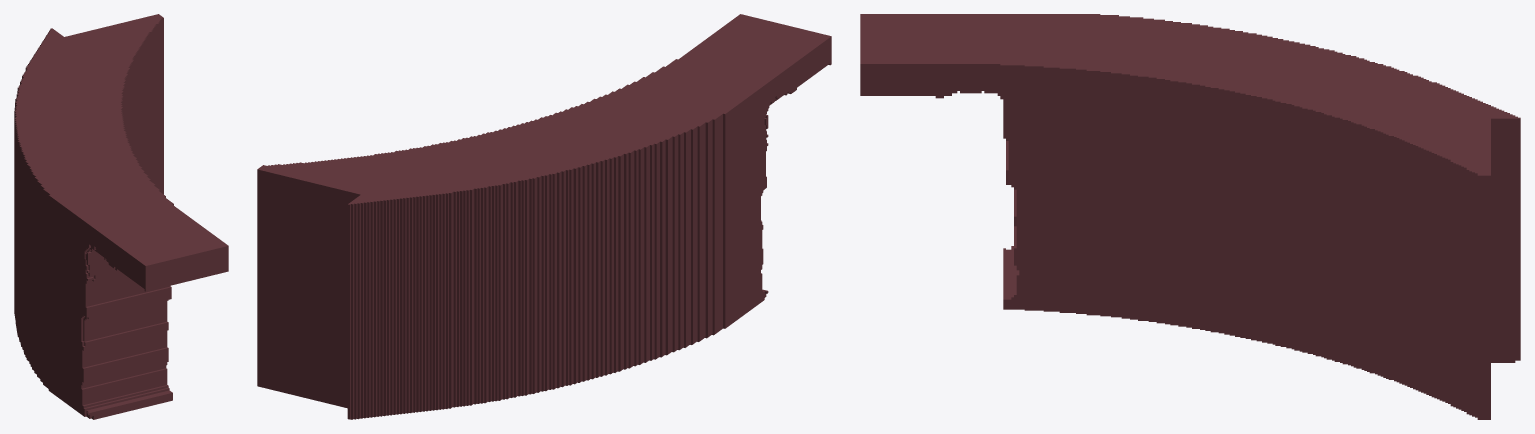
Rendered from base_with_flag_elements-12.obj.
3 renders of one model, left to right at view 1: azimuth 30°, elevation 25°; view 2: azimuth 150°, elevation 25°; view 3: azimuth 270°, elevation 25°, orthographic. The views are drawn at different scales.
Size of the model in its own units: 14.2 by 10 by 24.5.
Materials: 1 (1 with a texture image).
